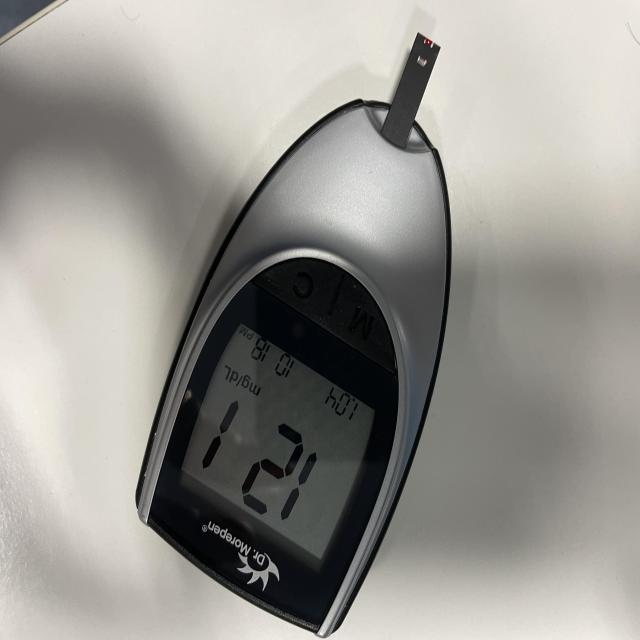gluco: (135, 34, 453, 640)
